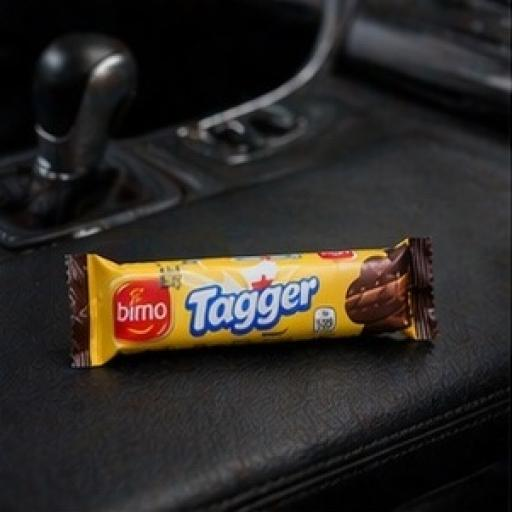tagger: (53, 204, 466, 423)
